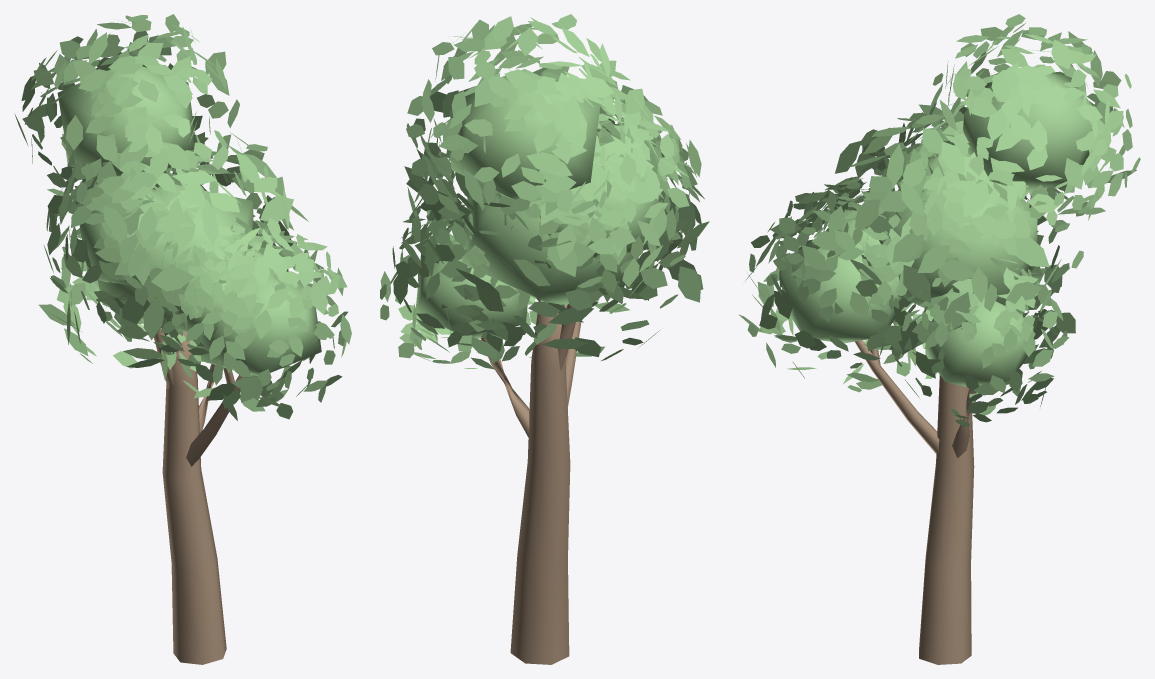
The model's file is tree_tall_A.glb.
3 renders of one model, left to right at view 1: azimuth 30°, elevation 25°; view 2: azimuth 150°, elevation 25°; view 3: azimuth 270°, elevation 25°, orthographic. The views are drawn at different scales.
Parts seen in each view (by area): view 1: tree_tall_A; view 2: tree_tall_A; view 3: tree_tall_A.
Part boxes in pixels (left/top/right/bottom): tree_tall_A: left=14, top=14, right=351, bottom=664; tree_tall_A: left=380, top=14, right=709, bottom=664; tree_tall_A: left=738, top=14, right=1140, bottom=664.
Bounding box in the file's own units: 1.09 × 2.45 × 1.45.
